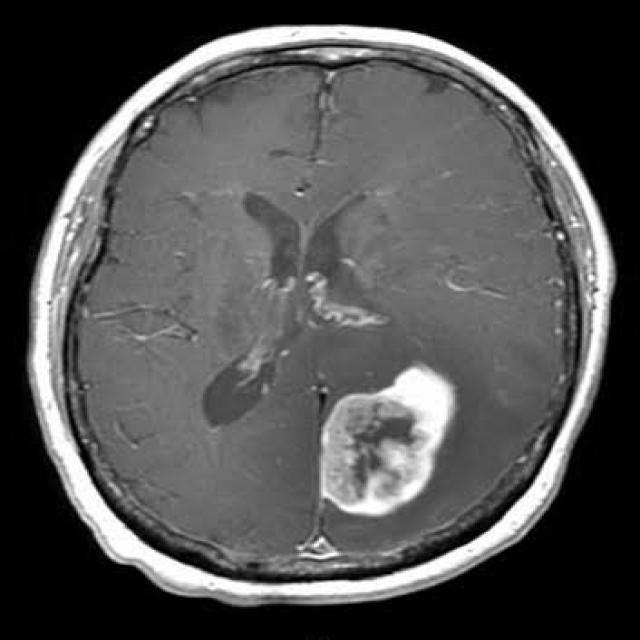glioma: (320, 359, 455, 516)
